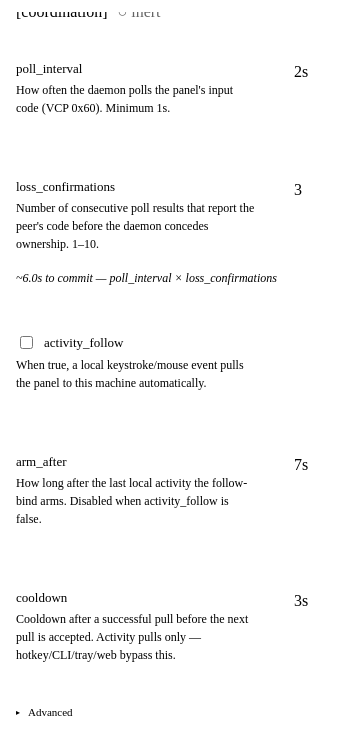
Test: CoordinationSection › renders all coordination fields with defaults
(page scrolled)
Expected: the text "poll_interval" is shown, [16, 61, 82, 76]
Expected: the text "loss_confirmations" is shown, [16, 179, 115, 194]
Step 1. Click the text "Advanced" → (50, 712), box [28, 706, 73, 718]
(page scrolled)
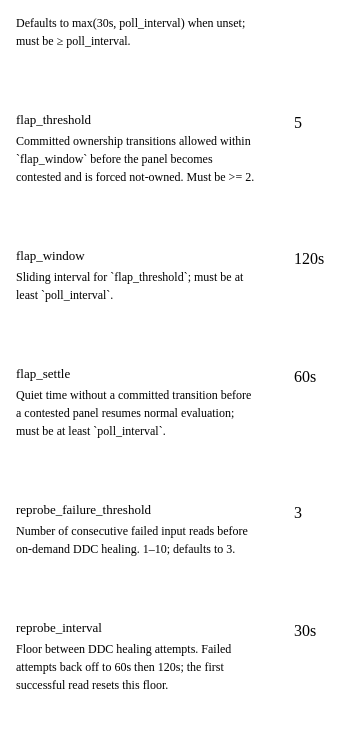
Expected: the text "flap_threshold" is shown, [16, 112, 91, 127]
Expected: the text "flap_window" is shown, [16, 248, 85, 263]
Expected: the text "flap_settle" is shown, [16, 366, 70, 381]
